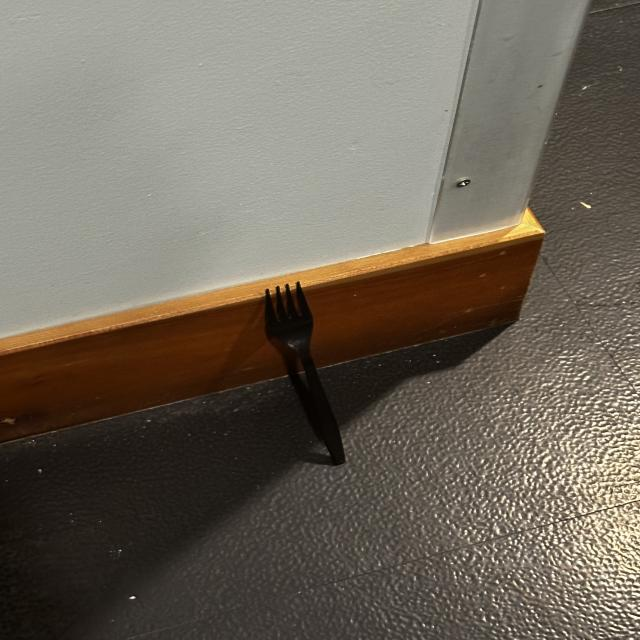fork: (188, 251, 409, 478)
